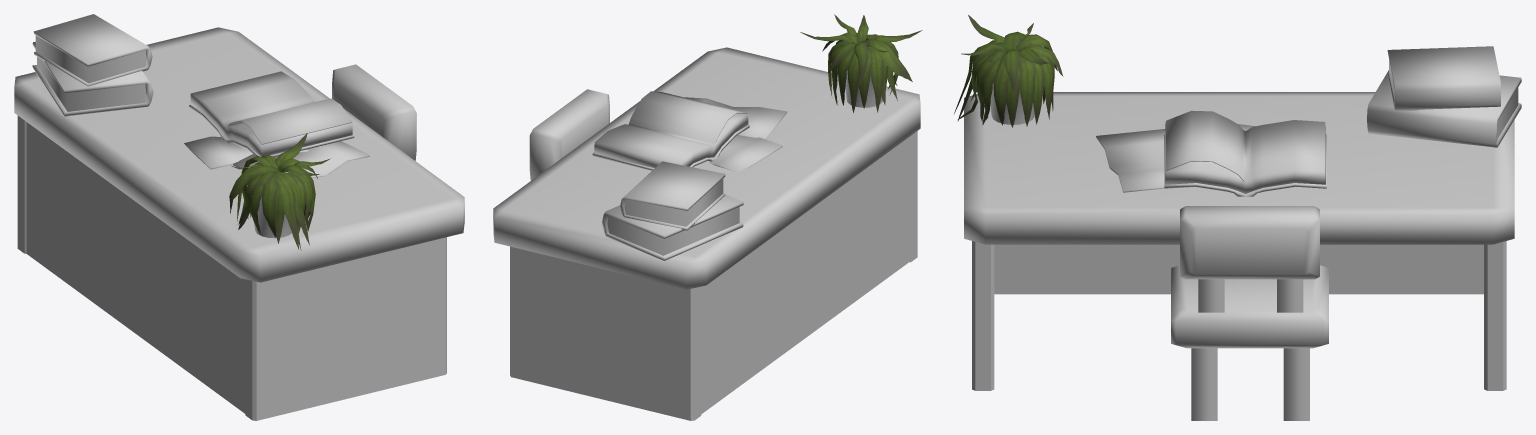
File: Escritorio.fbx
3 views of the same model, side by side, from view 1: azimuth 30°, elevation 25°; view 2: azimuth 150°, elevation 25°; view 3: azimuth 270°, elevation 25° (orthographic). The views are drawn at different scales.
Parts seen in each view (by area): view 1: Escritorio; view 2: Escritorio; view 3: Escritorio.
Part boxes in pixels (<box>): Escritorio: <box>14,14,464,420</box>; Escritorio: <box>493,14,922,420</box>; Escritorio: <box>954,15,1521,420</box>.
Size of the model in its own units: 291 by 248 by 473.
